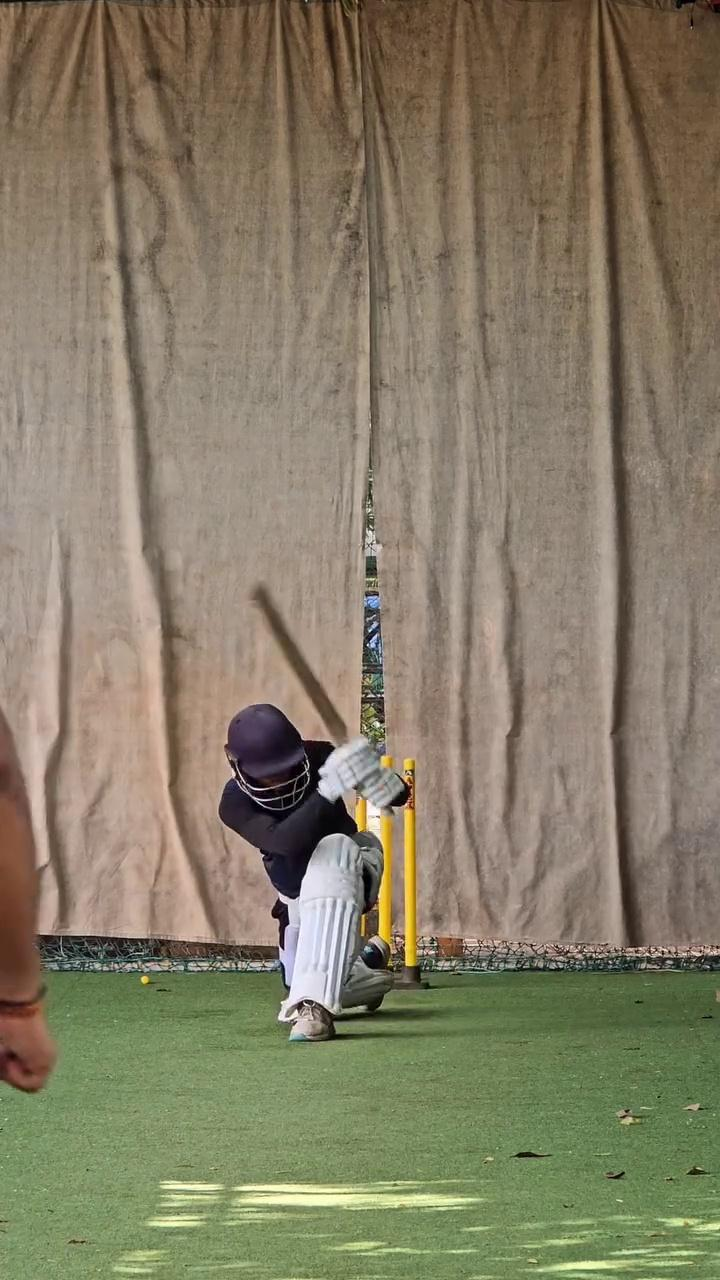bat: (243, 581, 352, 747)
